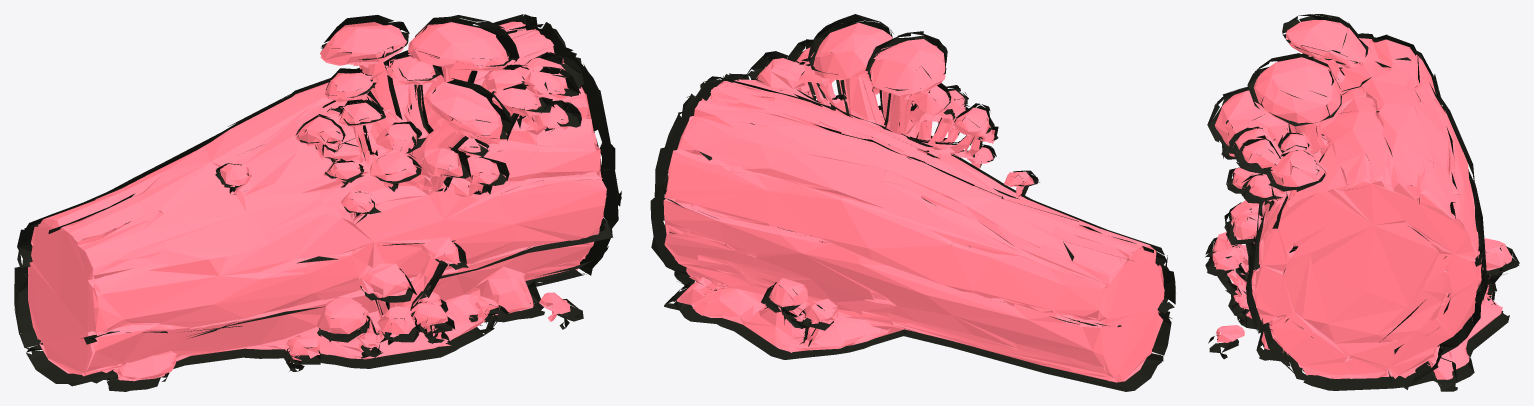
The model's file is df_v2_mushroom_cluster_large_f_a.glb.
3 renders of one model, left to right at view 1: azimuth 30°, elevation 25°; view 2: azimuth 150°, elevation 25°; view 3: azimuth 270°, elevation 25°, orthographic. The views are drawn at different scales.
Visible parts, largest first — view 1: mushroom_cluster_large_f_mesh_01, mushroom_cluster_large_f_mesh_01_ink_outline; view 2: mushroom_cluster_large_f_mesh_01, mushroom_cluster_large_f_mesh_01_ink_outline; view 3: mushroom_cluster_large_f_mesh_01, mushroom_cluster_large_f_mesh_01_ink_outline.
Boxes of the visible parts, bbox=[...] form: mushroom_cluster_large_f_mesh_01: bbox=[28, 21, 606, 381]; mushroom_cluster_large_f_mesh_01_ink_outline: bbox=[14, 14, 621, 391]; mushroom_cluster_large_f_mesh_01: bbox=[663, 22, 1164, 382]; mushroom_cluster_large_f_mesh_01_ink_outline: bbox=[650, 14, 1175, 391]; mushroom_cluster_large_f_mesh_01: bbox=[1212, 20, 1512, 379]; mushroom_cluster_large_f_mesh_01_ink_outline: bbox=[1205, 14, 1519, 391].
Size of the model in its own units: 1.9 by 1.09 by 1.11.
